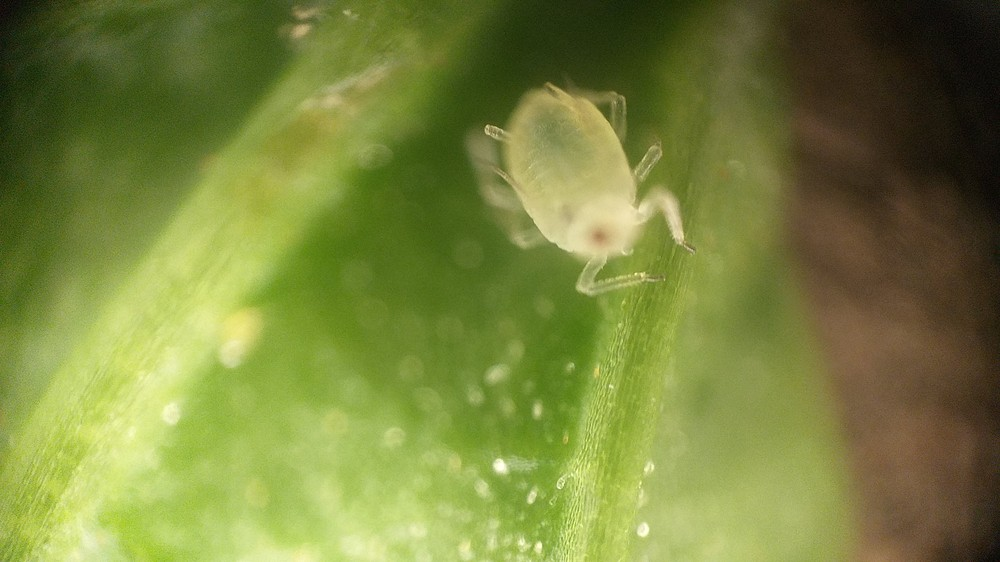Pulgon: (449, 56, 726, 331)
